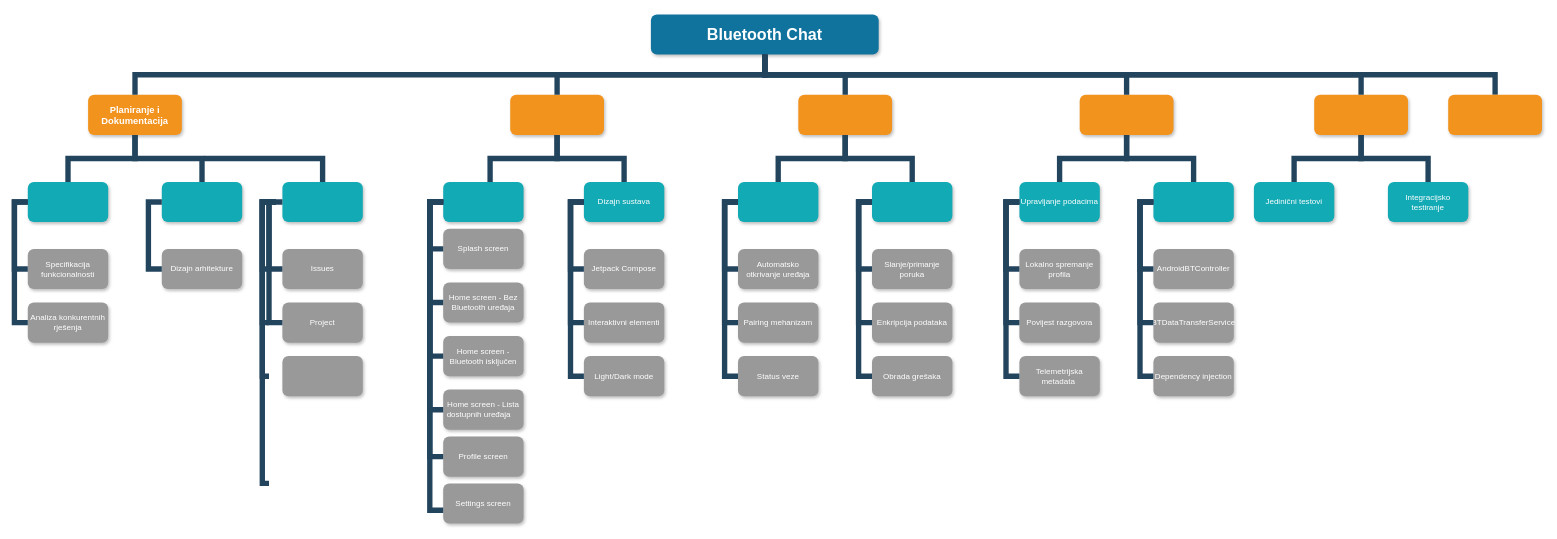
This 1557x539 diagram has some shape labels left out. The shapes that lost their labels are listed below. From the top down, each one's centre as x and y in pixels, then its label:
At (x=557, y=115): "UI/UX Razvoj".
At (x=845, y=115): "Bluetooth funkcionalnost".
At (x=1127, y=115): "Backend logika".
At (x=1361, y=115): "Testiranje".
At (x=1495, y=115): "Objavljivanje i održavanje".
At (x=68, y=202): "Definicija zahtjeva".
At (x=202, y=202): "Tehnička dokumentacija".
At (x=322, y=202): "Postavljanje GitHub repozitorija".
At (x=483, y=202): "Ekrani aplikacije".
At (x=778, y=202): "Upravljanje vezom".
At (x=912, y=202): "Komunikacijski protokol".
At (x=1193, y=202): "Servisne komponente".
At (x=322, y=377): "Dokumentacija".
